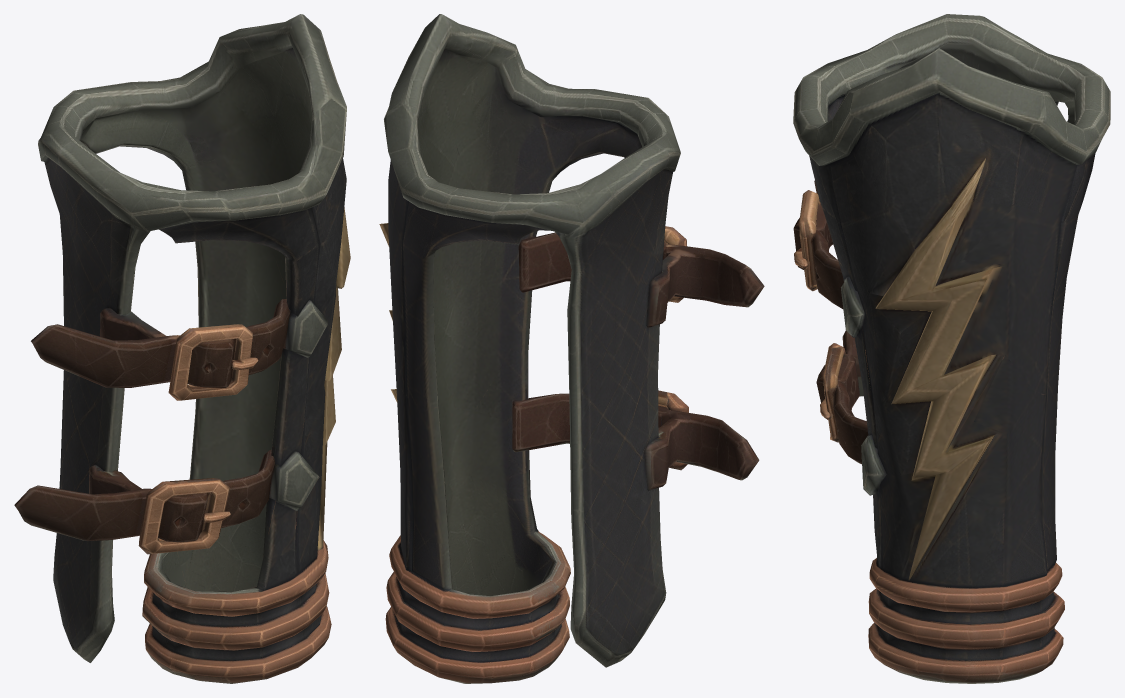
Rendered from thunders-memory-i1_i23d.glb.
3 views of the same model, side by side, from view 1: azimuth 30°, elevation 25°; view 2: azimuth 150°, elevation 25°; view 3: azimuth 270°, elevation 25° (orthographic). The views are drawn at different scales.
Bounding box in the file's own units: 0.5425 × 0.9531 × 0.4268.
Materials: 1 (1 with a texture image).
